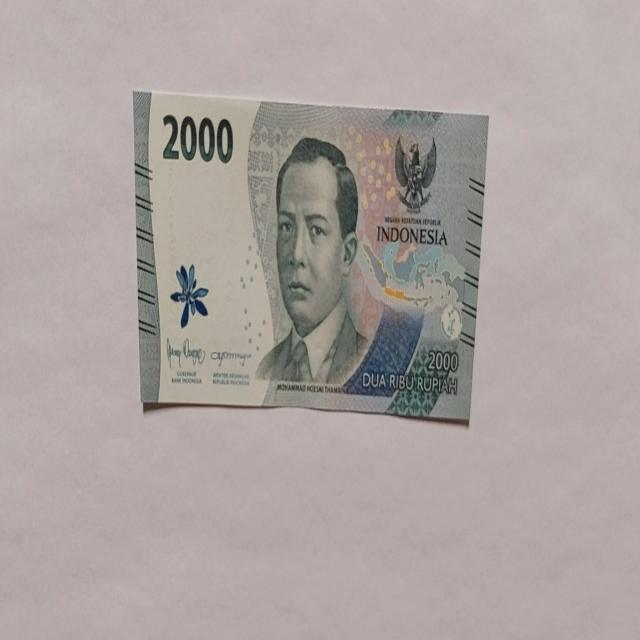dua ribu rupiah: (133, 88, 489, 420), (254, 135, 370, 389)
